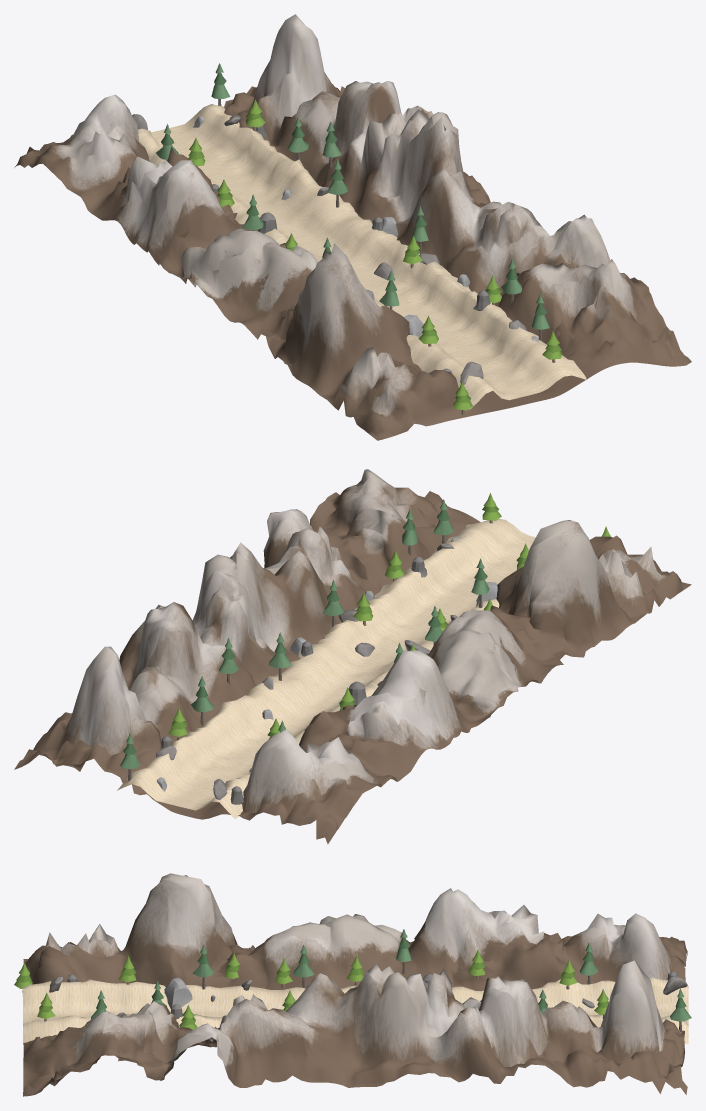
The model's file is Map3.fbx.
3 views of the same model, one above another, from view 1: azimuth 30°, elevation 25°; view 2: azimuth 150°, elevation 25°; view 3: azimuth 270°, elevation 25° (orthographic). The views are drawn at different scales.
Parts seen in each view (by area): view 1: pPlane4, pPlane5; view 2: pPlane4, pPlane5; view 3: pPlane4, pPlane5, pCube5.
Boxes of the visible parts, <box> form: pPlane4: <box>14,14,691,440</box>; pPlane5: <box>138,104,587,409</box>; pPlane4: <box>14,469,691,844</box>; pPlane5: <box>117,519,535,819</box>; pPlane4: <box>23,873,687,1096</box>; pPlane5: <box>22,977,688,1044</box>; pCube5: <box>164,977,192,1009</box>.
Size of the model in its own units: 205 by 79.79 by 407.
